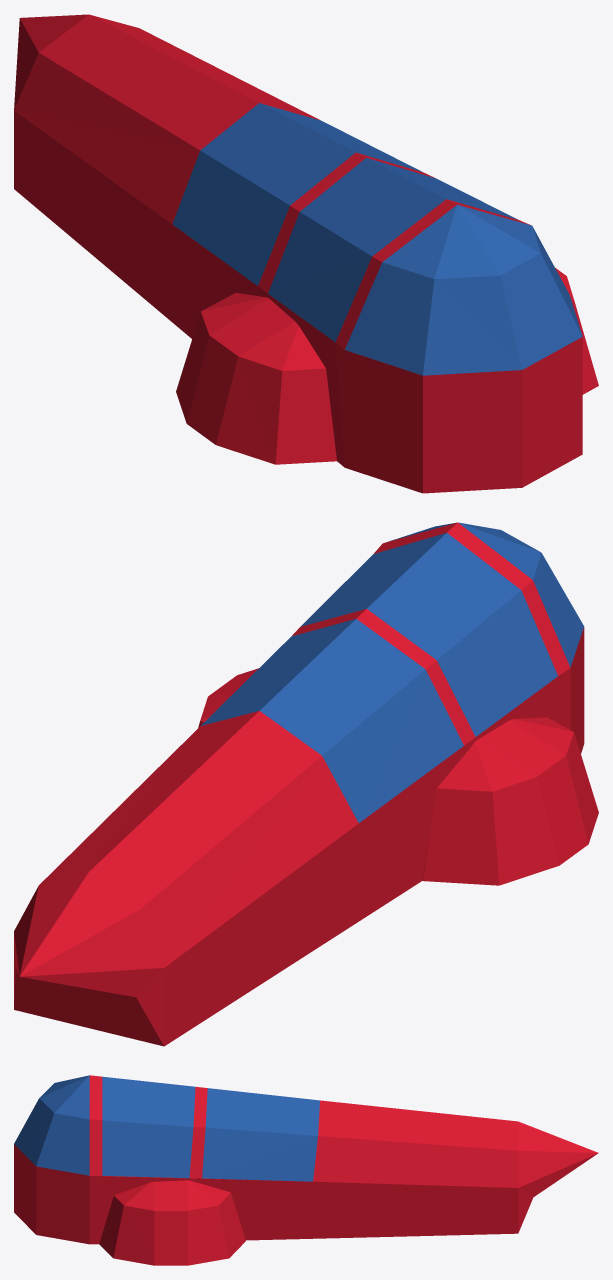
The model's file is cockpit.FBX.
3 views of the same model, one above another, from view 1: azimuth 30°, elevation 25°; view 2: azimuth 150°, elevation 25°; view 3: azimuth 270°, elevation 25° (orthographic). The views are drawn at different scales.
Parts seen in each view (by area): view 1: VIFS001, VIFS002; view 2: VIFS001, VIFS002; view 3: VIFS001, VIFS002.
Part boxes in pixels (bbox=[...]): VIFS001: bbox=[14, 14, 598, 493]; VIFS002: bbox=[172, 103, 582, 375]; VIFS001: bbox=[14, 522, 598, 1046]; VIFS002: bbox=[201, 522, 583, 822]; VIFS001: bbox=[14, 1075, 598, 1265]; VIFS002: bbox=[14, 1075, 319, 1181].
Size of the model in its own units: 0.498 by 0.3 by 1.16.
